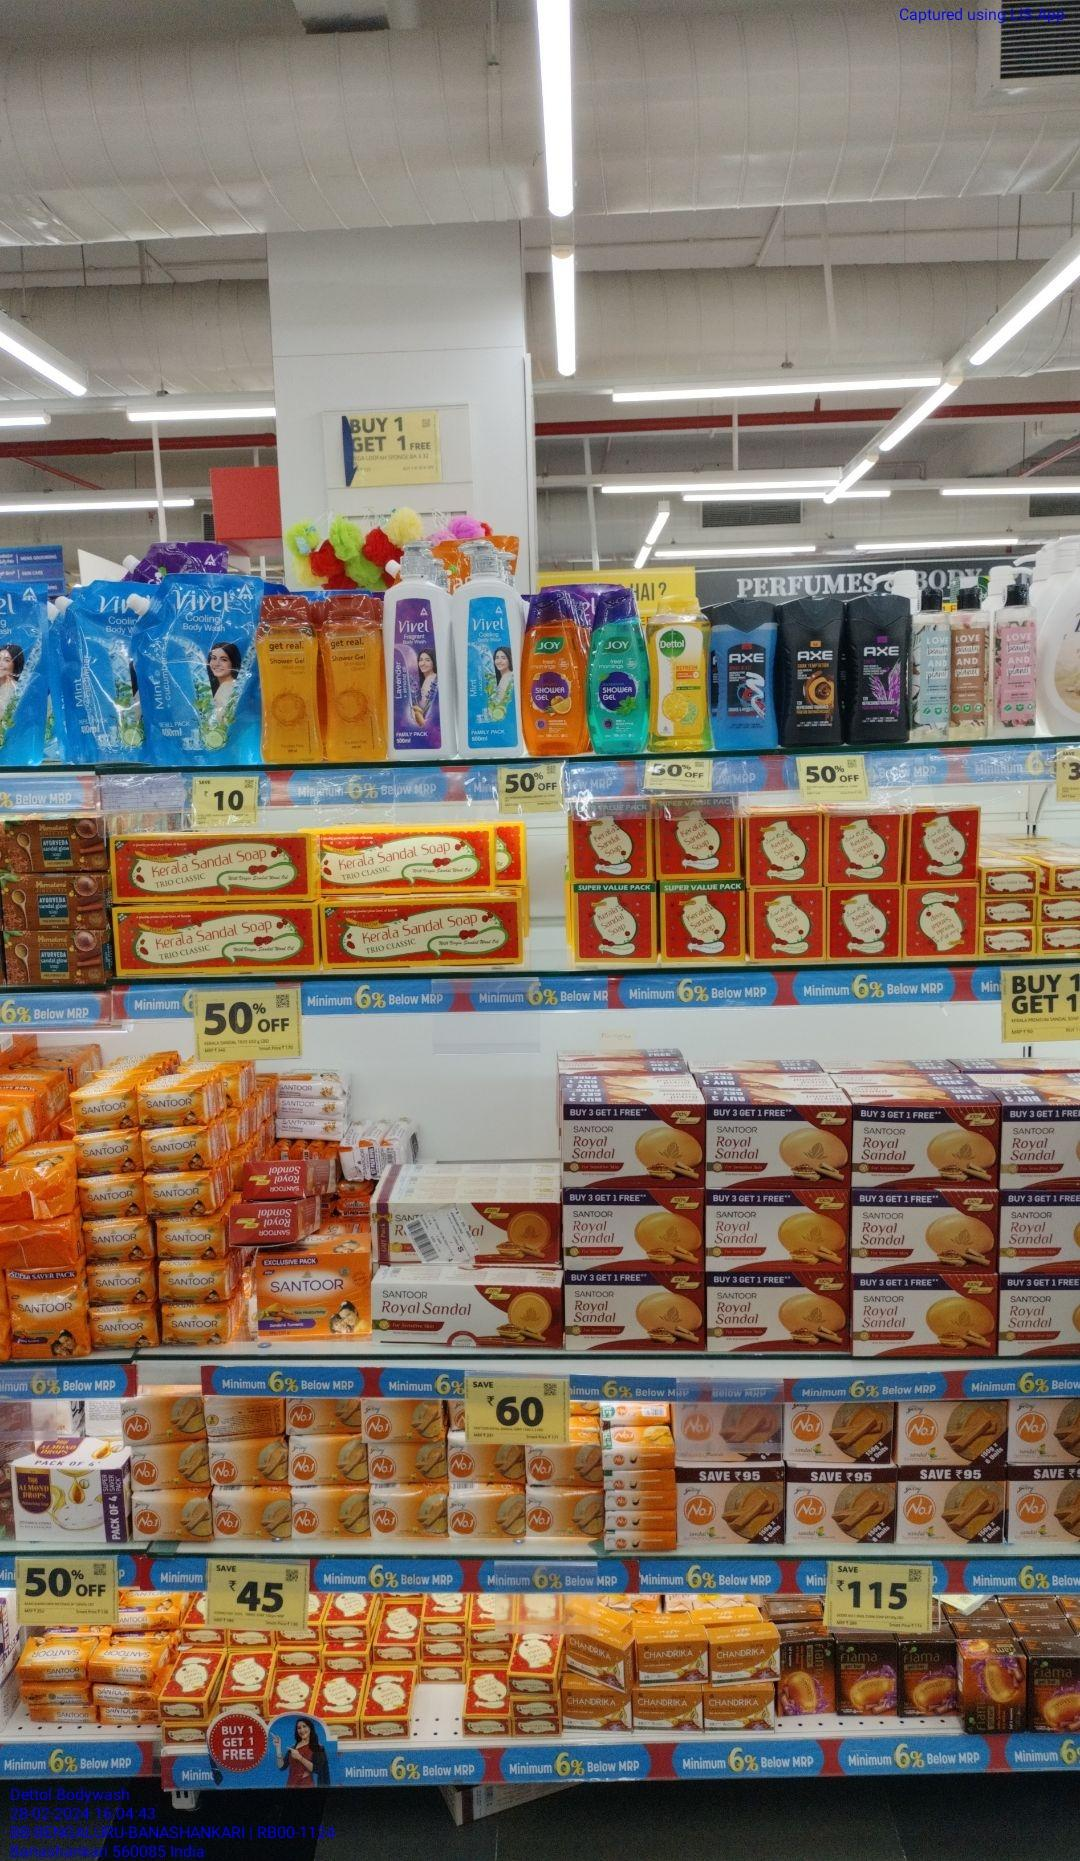Dettol_Bodywash_Refresh: (648, 591, 710, 757)
Get_Real_Shower_Gel_Moisturising_Glycerin_300ML: (256, 589, 320, 765), (324, 590, 384, 771)
Joy_Shower_Gel_Mandarin_and_Lemongrass_250ML: (522, 587, 584, 761)
Joy_Shower_Gel_Mint_and_Eucalyptus_250ML: (589, 585, 644, 760)
